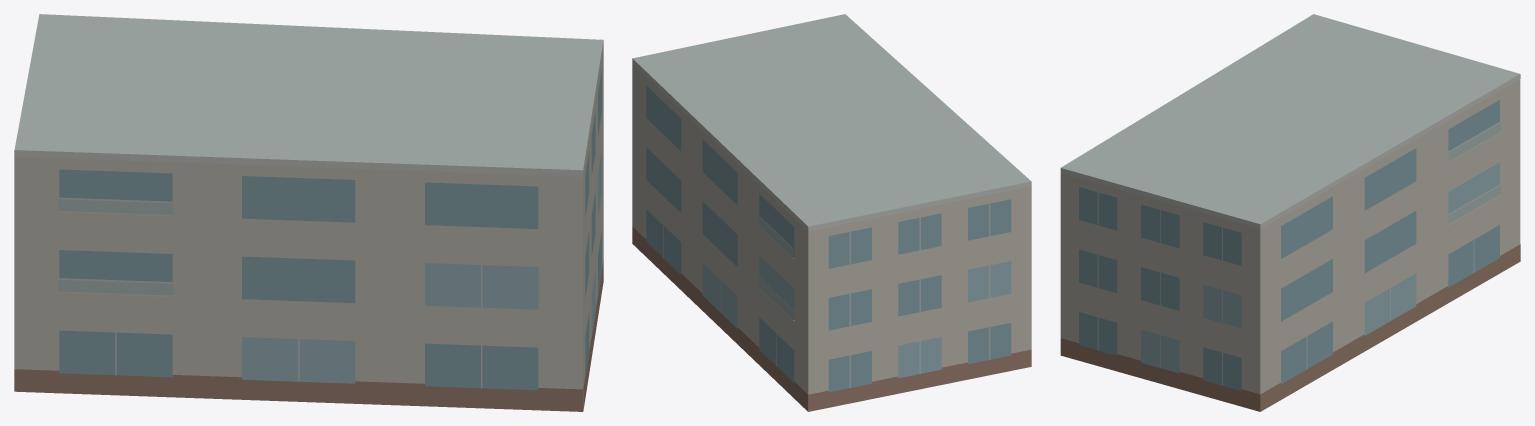
The model's file is survey-upis-32457034.glb.
The picture shows the model from 3 angles, left to right: view 1: azimuth 30°, elevation 25°; view 2: azimuth 150°, elevation 25°; view 3: azimuth 270°, elevation 25°; orthographic projection. The views are drawn at different scales.
Parts seen in each view (by area): view 1: survey-upis-32457034.tmp; view 2: survey-upis-32457034.tmp; view 3: survey-upis-32457034.tmp.
Boxes of the visible parts, x1,y1,x2,y2 form: survey-upis-32457034.tmp: (14, 14, 603, 411); survey-upis-32457034.tmp: (632, 14, 1031, 411); survey-upis-32457034.tmp: (1060, 14, 1520, 411).
Bounding box in the file's own units: 21.99 × 9.15 × 20.33.
